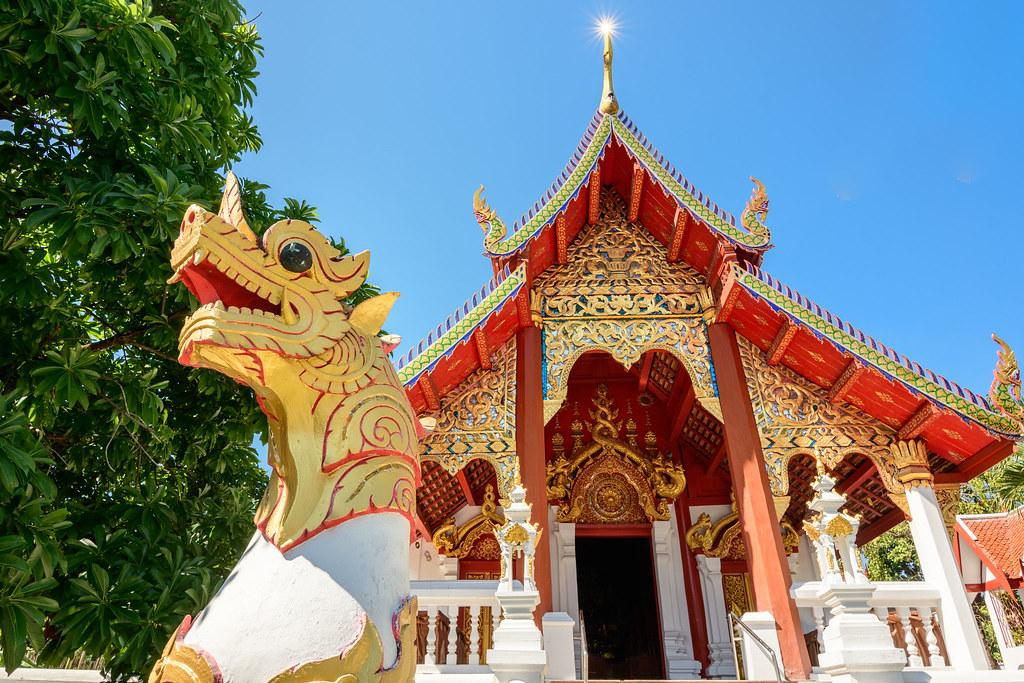temple: (147, 8, 1022, 682)
